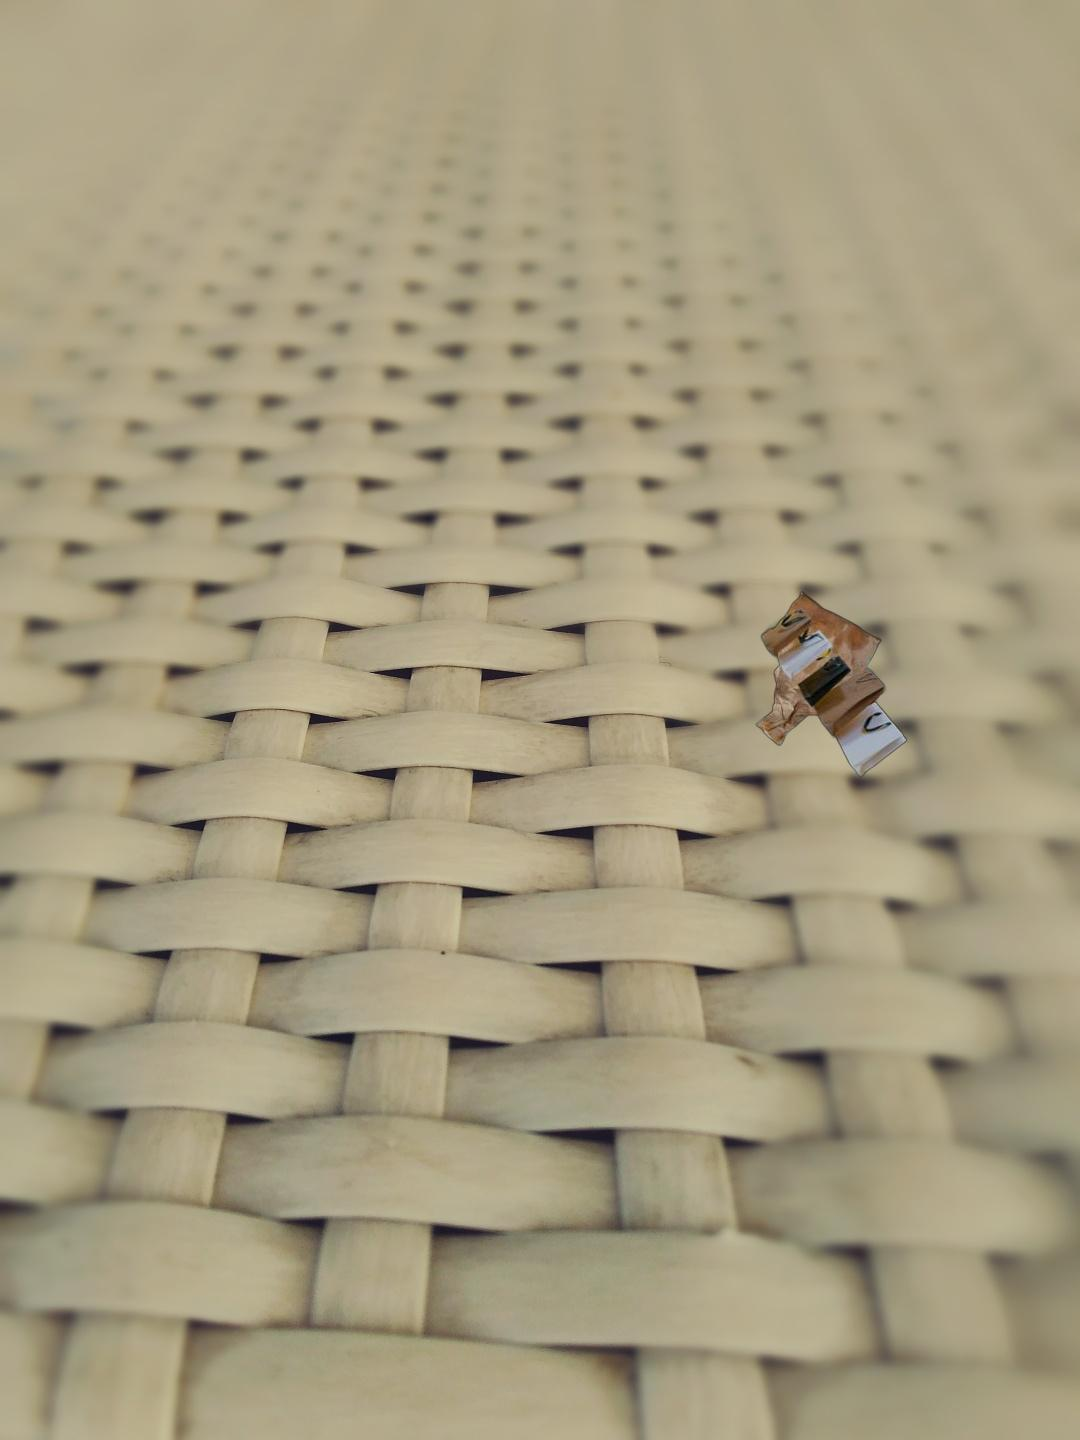paper-bag: (754, 588, 910, 779)
